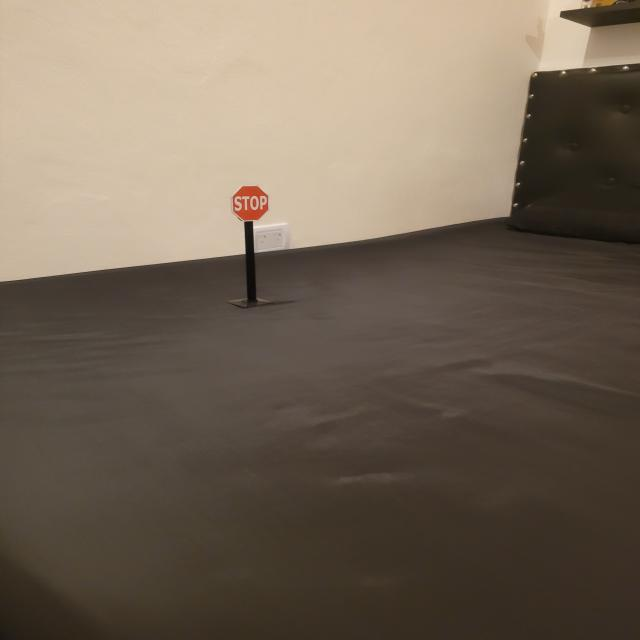stop: (230, 185, 270, 222)
